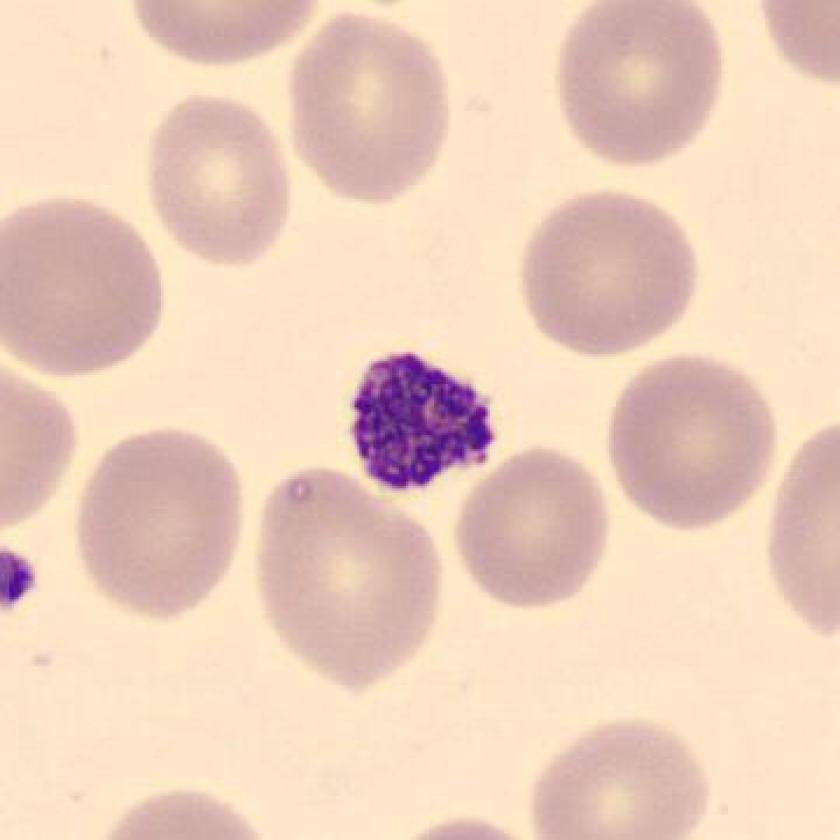platelets: (337, 339, 507, 505)
